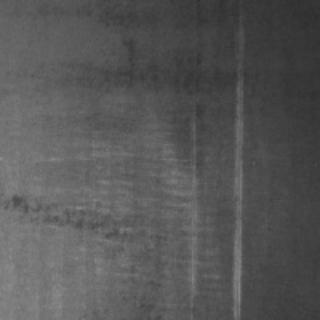scratches: (225, 28, 242, 312)
